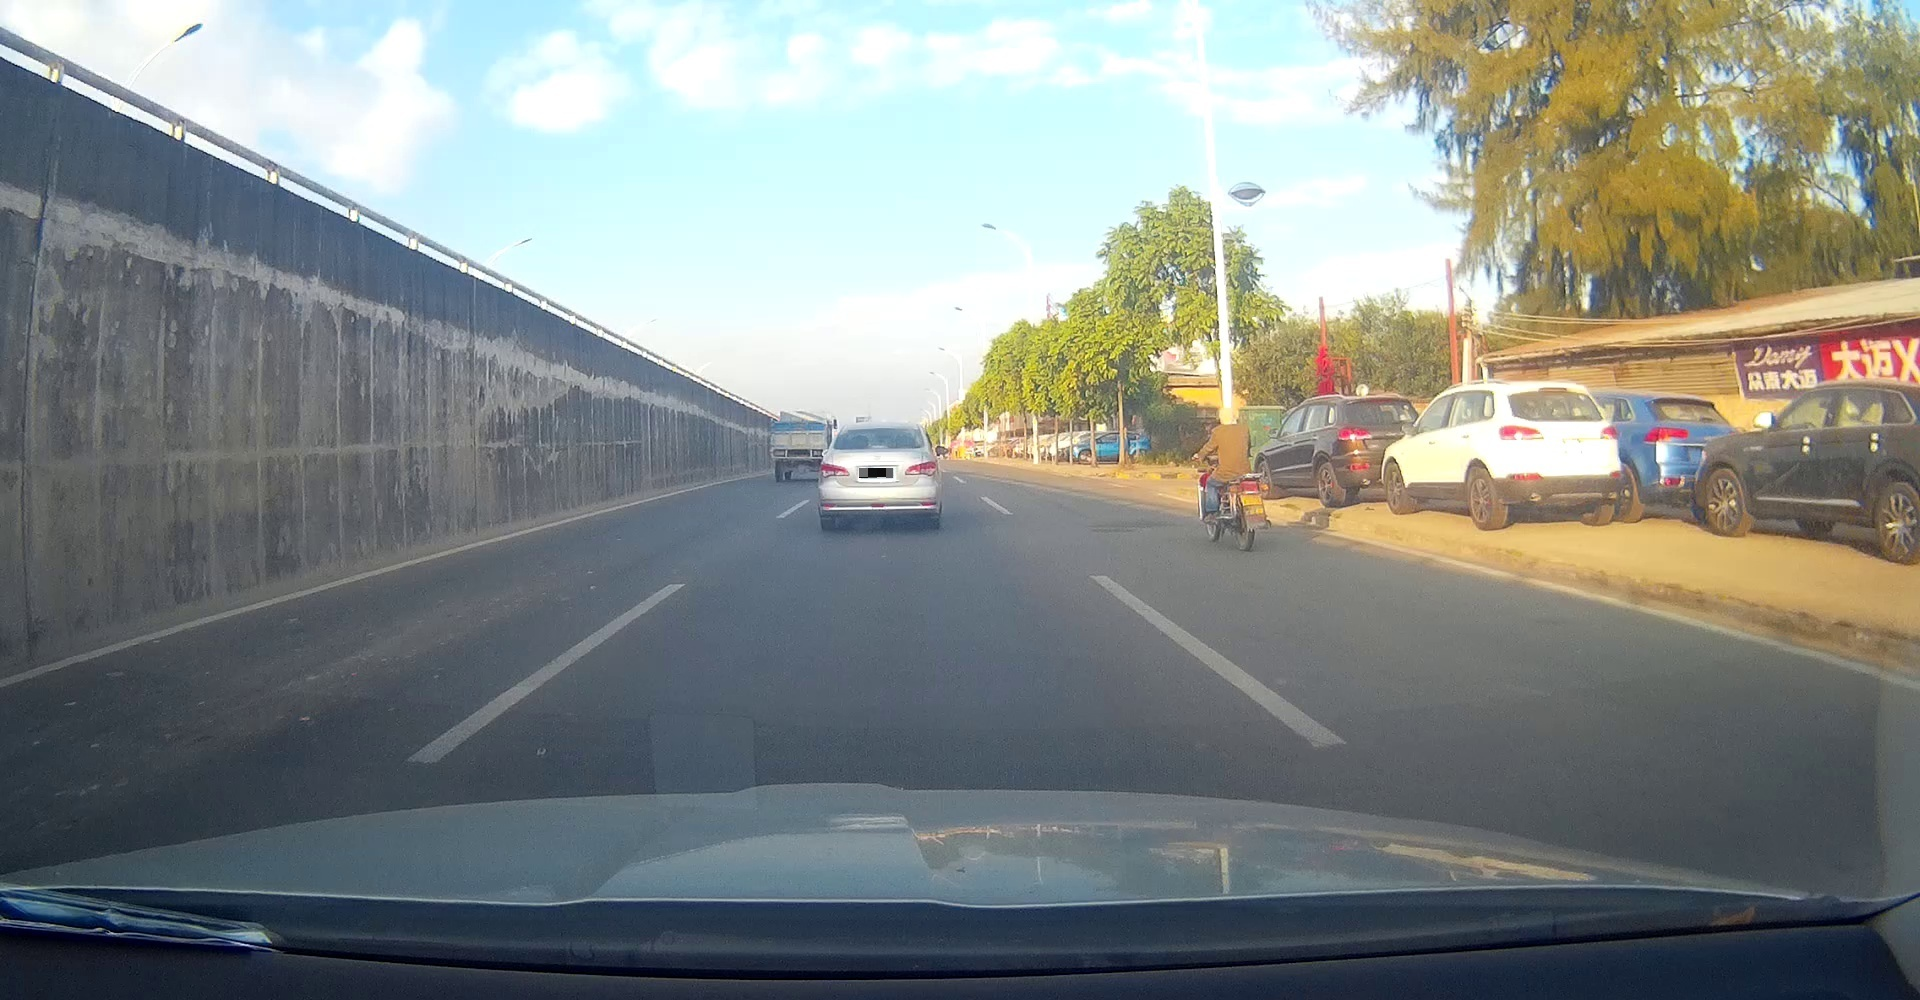L_light: (1498, 424, 1544, 440), (820, 464, 850, 478)
R_light: (904, 459, 937, 477), (1600, 425, 1620, 440)
T_light: (1539, 387, 1566, 393), (871, 445, 888, 449)
day-no: (1497, 381, 1622, 530), (819, 423, 938, 529)
plate_1: (858, 468, 893, 478)
